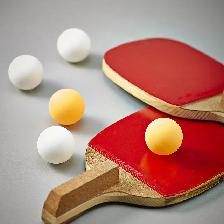WhiteBall: (36, 126, 75, 165), (8, 54, 43, 90), (56, 27, 90, 63)
YellowBall: (143, 117, 183, 155), (49, 88, 84, 124)
